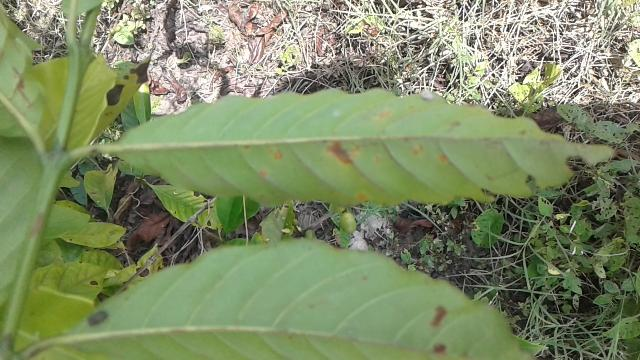rust_level_2: (113, 82, 622, 210)
